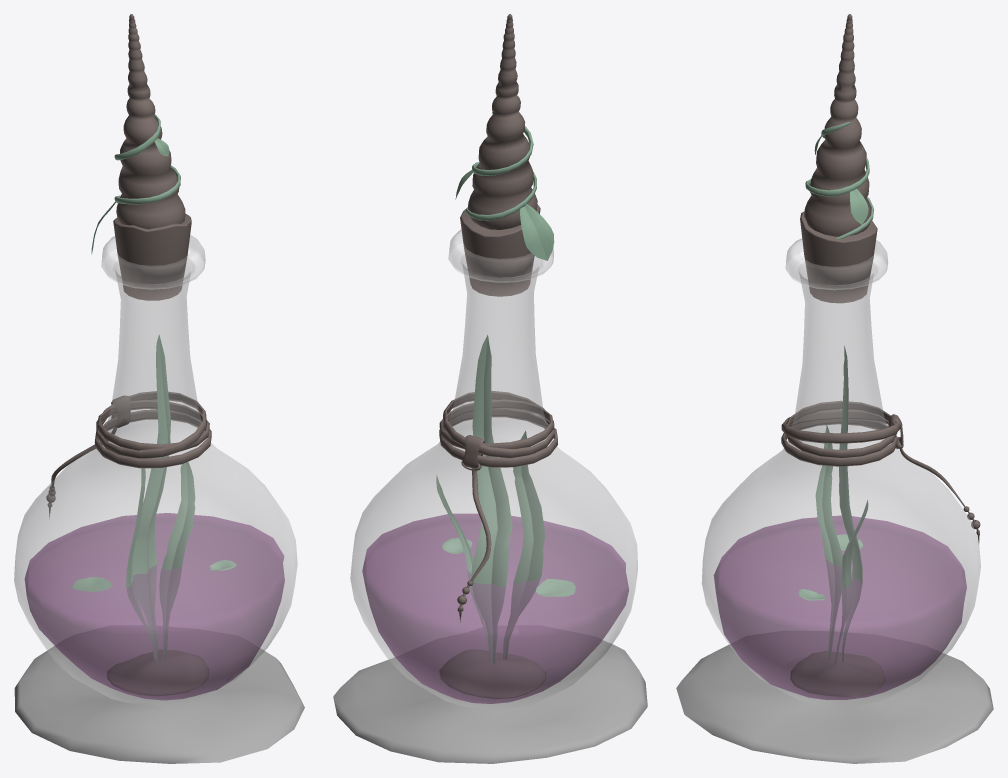
The model's file is Potion_Finished.fbx.
The picture shows the model from 3 angles, left to right: view 1: azimuth 30°, elevation 25°; view 2: azimuth 150°, elevation 25°; view 3: azimuth 270°, elevation 25°; orthographic projection. The views are drawn at different scales.
Parts seen in each view (by area): view 1: Potion2; view 2: Potion2; view 3: Potion2.
Boxes of the visible parts, left/top/right/bottom form: Potion2: left=14, top=14, right=304, bottom=763; Potion2: left=333, top=14, right=647, bottom=763; Potion2: left=676, top=14, right=993, bottom=763.
Bounding box in the file's own units: 556 × 1404 × 595.
